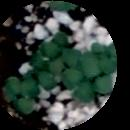Basil: (83, 56, 111, 95), (58, 72, 90, 103), (6, 79, 32, 115), (42, 31, 69, 57), (33, 58, 53, 90), (96, 45, 117, 72)
